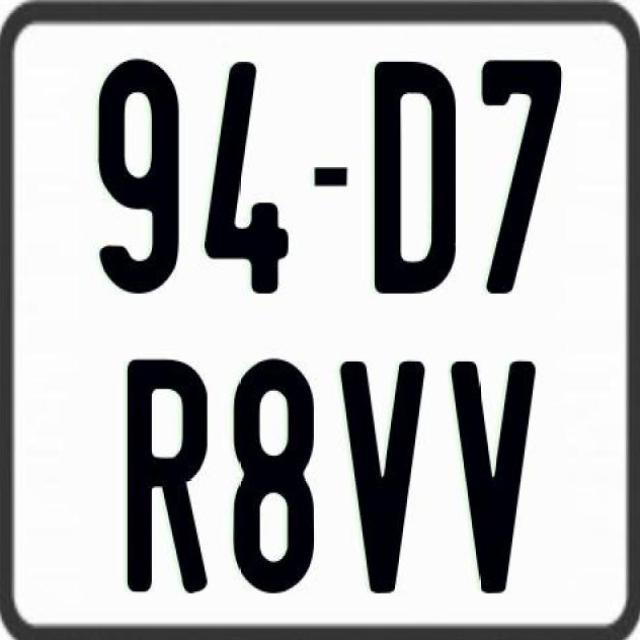license-plate: (44, 24, 632, 640)
